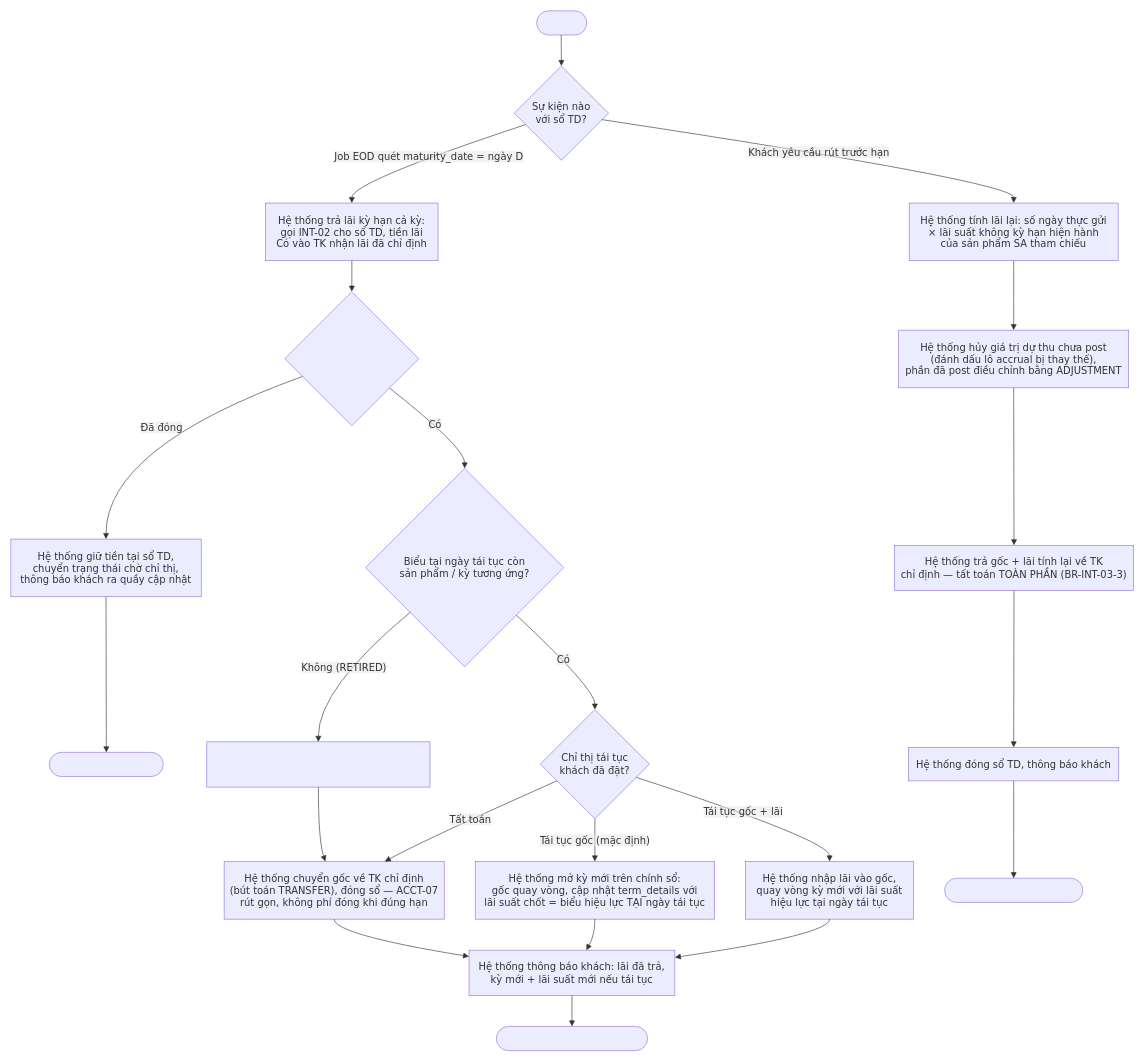
Image size: 1145x1061. Some labels were removed from this diagram. Here are the shapes that lost their labels. From the top down, the centre of each, then its label:
At [561,22]: "Bắt đầu".
At [351,358]: "TK nhận lãi / gốc còn hoạt động?".
At [106,764]: "Kết thúc — chờ chỉ thị".
At [318,764]: "Hệ thống ép chỉ thị 'tất toán' (khách đã được nhắc từ T-7, BR-INT-03-2)".
At [1013,890]: "Kết thúc — đã tất toán sớm".
At [572,1038]: "Kết thúc — đáo hạn xử lý xong".
